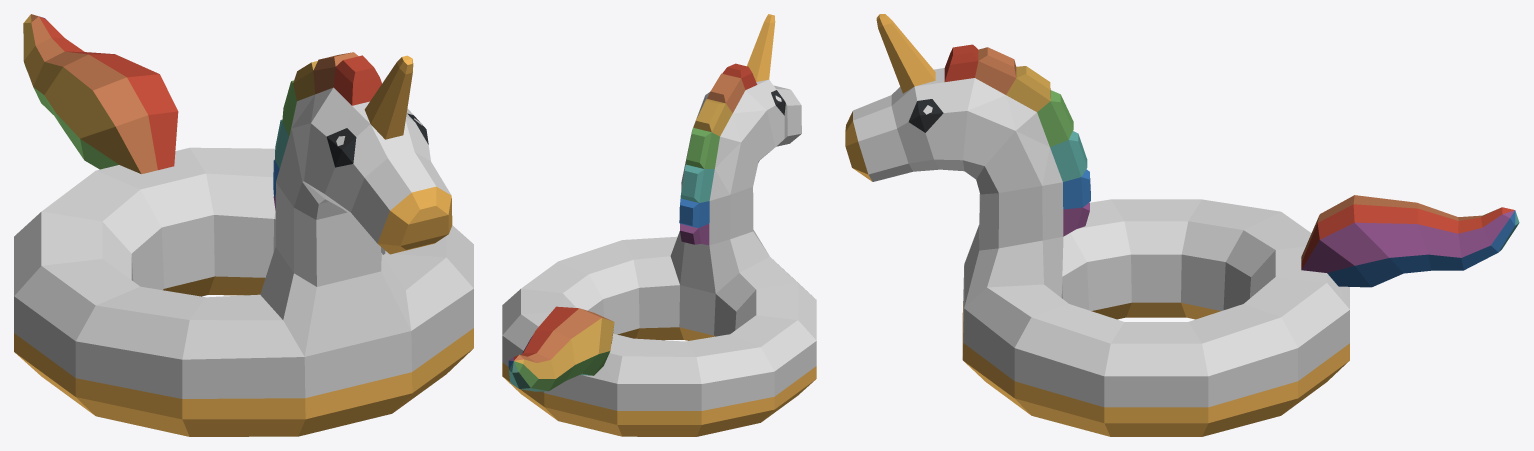
Rendered from SM_Prop_Pool_Float_Ring_03.fbx.
3 renders of one model, left to right at view 1: azimuth 30°, elevation 25°; view 2: azimuth 150°, elevation 25°; view 3: azimuth 270°, elevation 25°, orthographic. The views are drawn at different scales.
Parts seen in each view (by area): view 1: SM_Prop_Pool_Float_Ring_03; view 2: SM_Prop_Pool_Float_Ring_03; view 3: SM_Prop_Pool_Float_Ring_03.
Boxes of the visible parts, x1,y1,x2,y2 form: SM_Prop_Pool_Float_Ring_03: [14, 14, 473, 436]; SM_Prop_Pool_Float_Ring_03: [502, 14, 816, 436]; SM_Prop_Pool_Float_Ring_03: [845, 14, 1519, 436].
Bounding box in the file's own units: 111 × 111 × 193.
